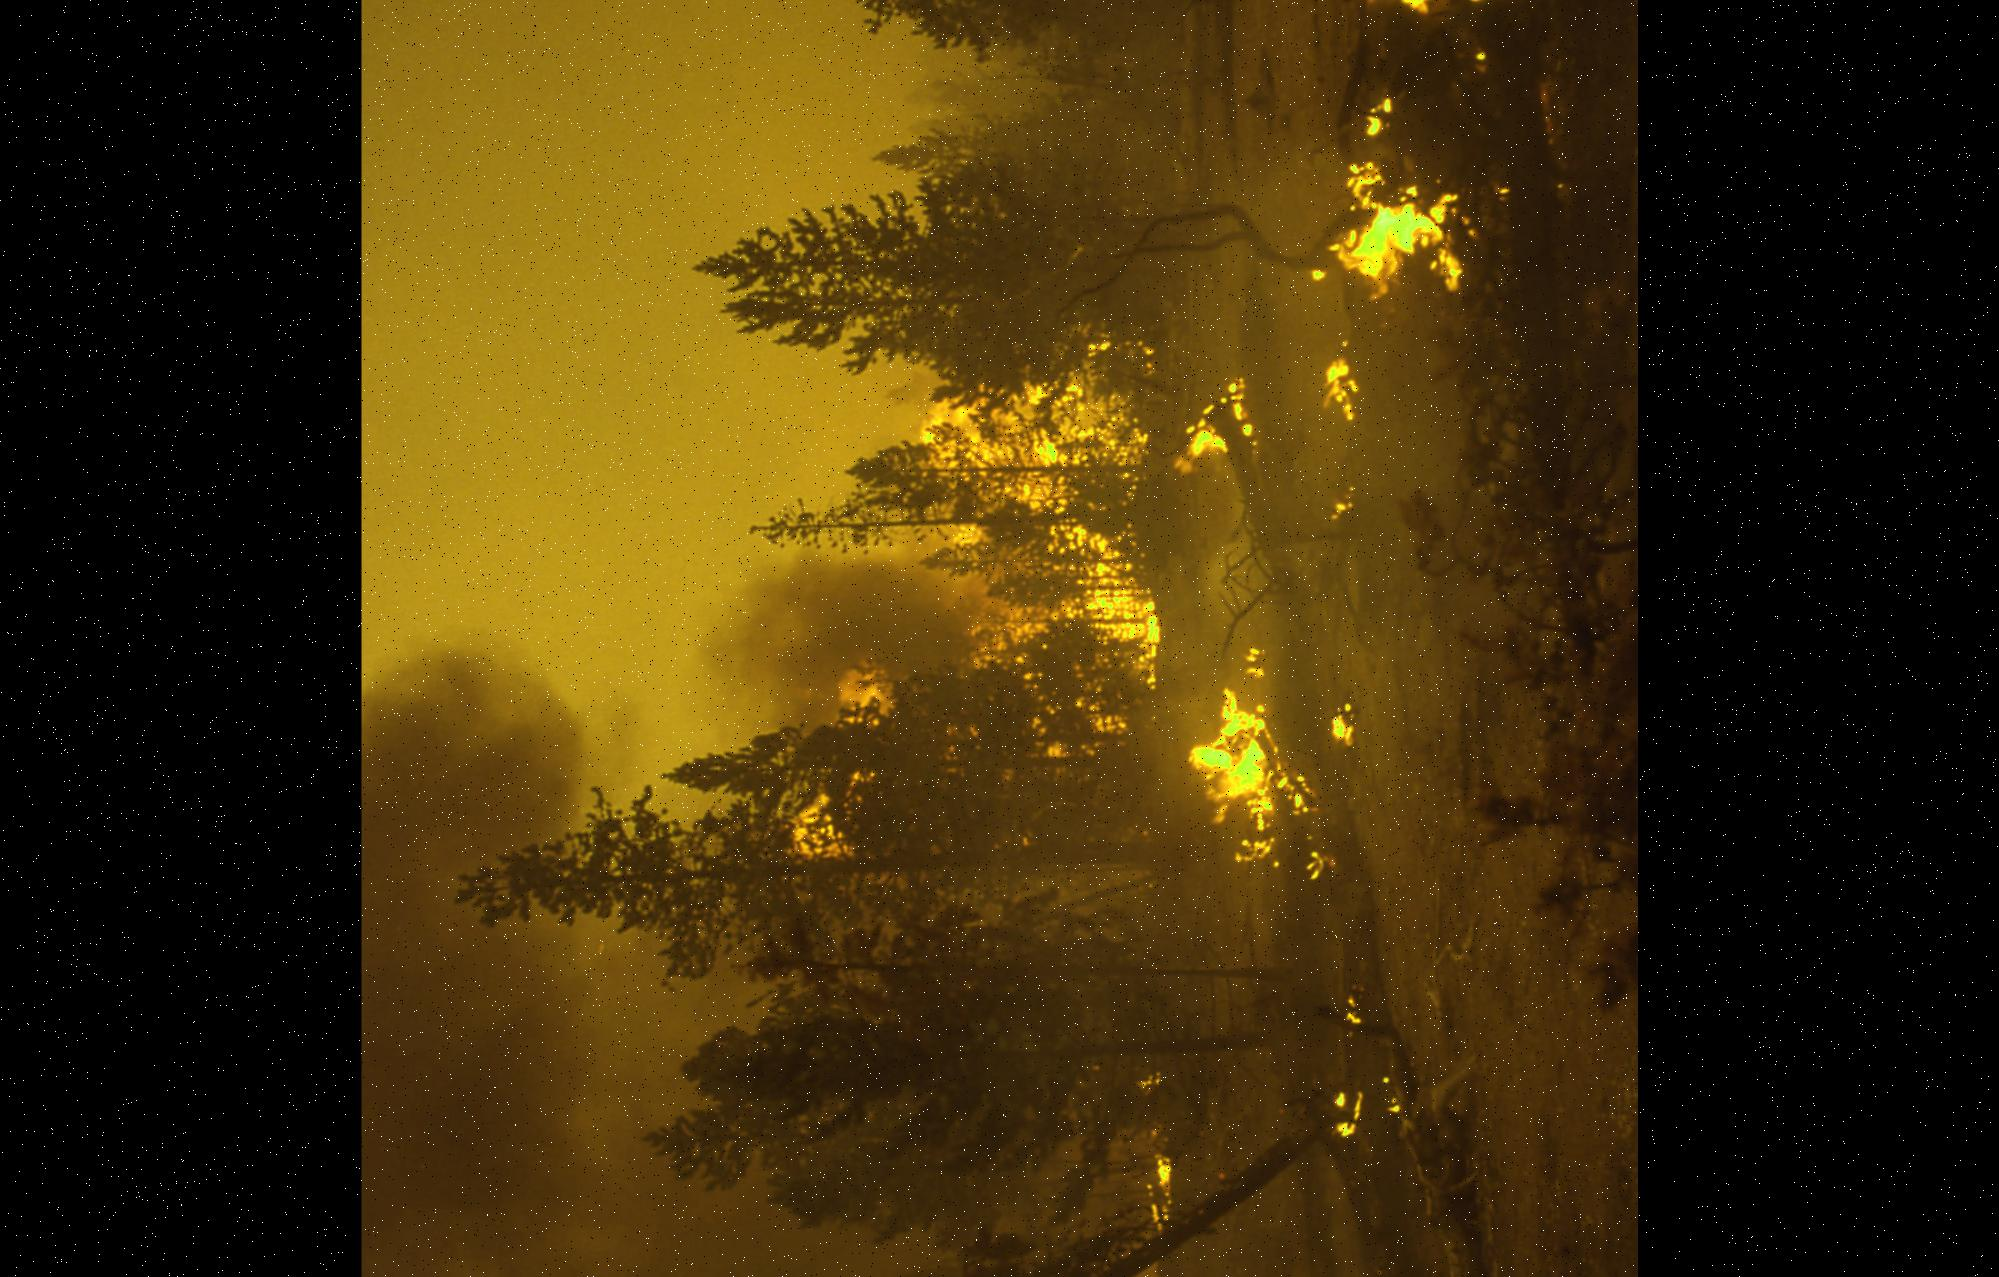fire: (932, 379, 1380, 927), (1268, 0, 1598, 453), (1083, 972, 1431, 1277)
